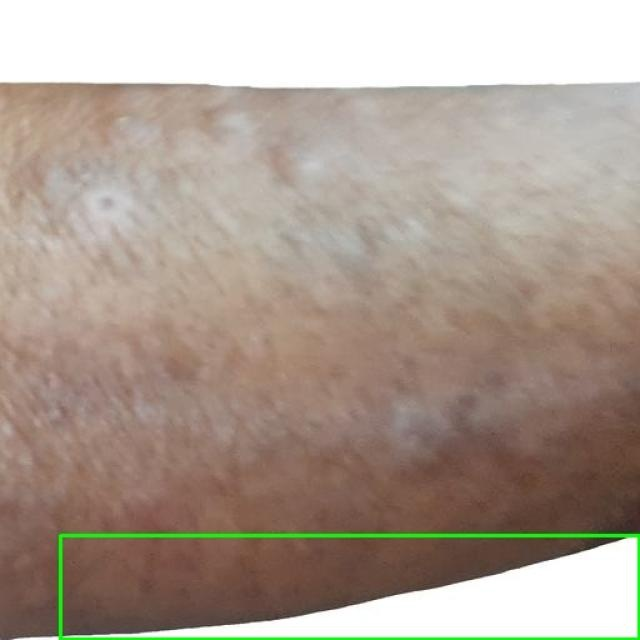Tinea Corporis: (60, 535, 639, 639)
